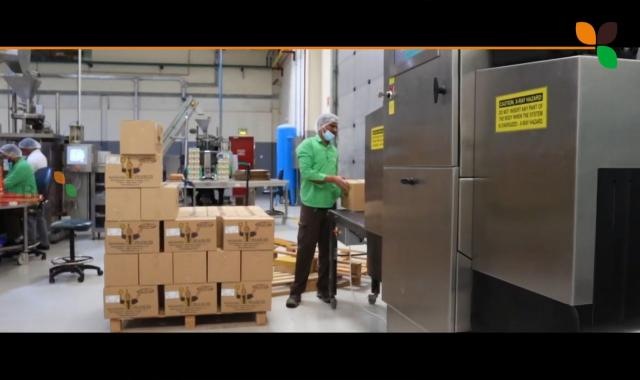hairnet: (316, 111, 338, 136), (0, 142, 20, 161), (18, 138, 44, 152)
